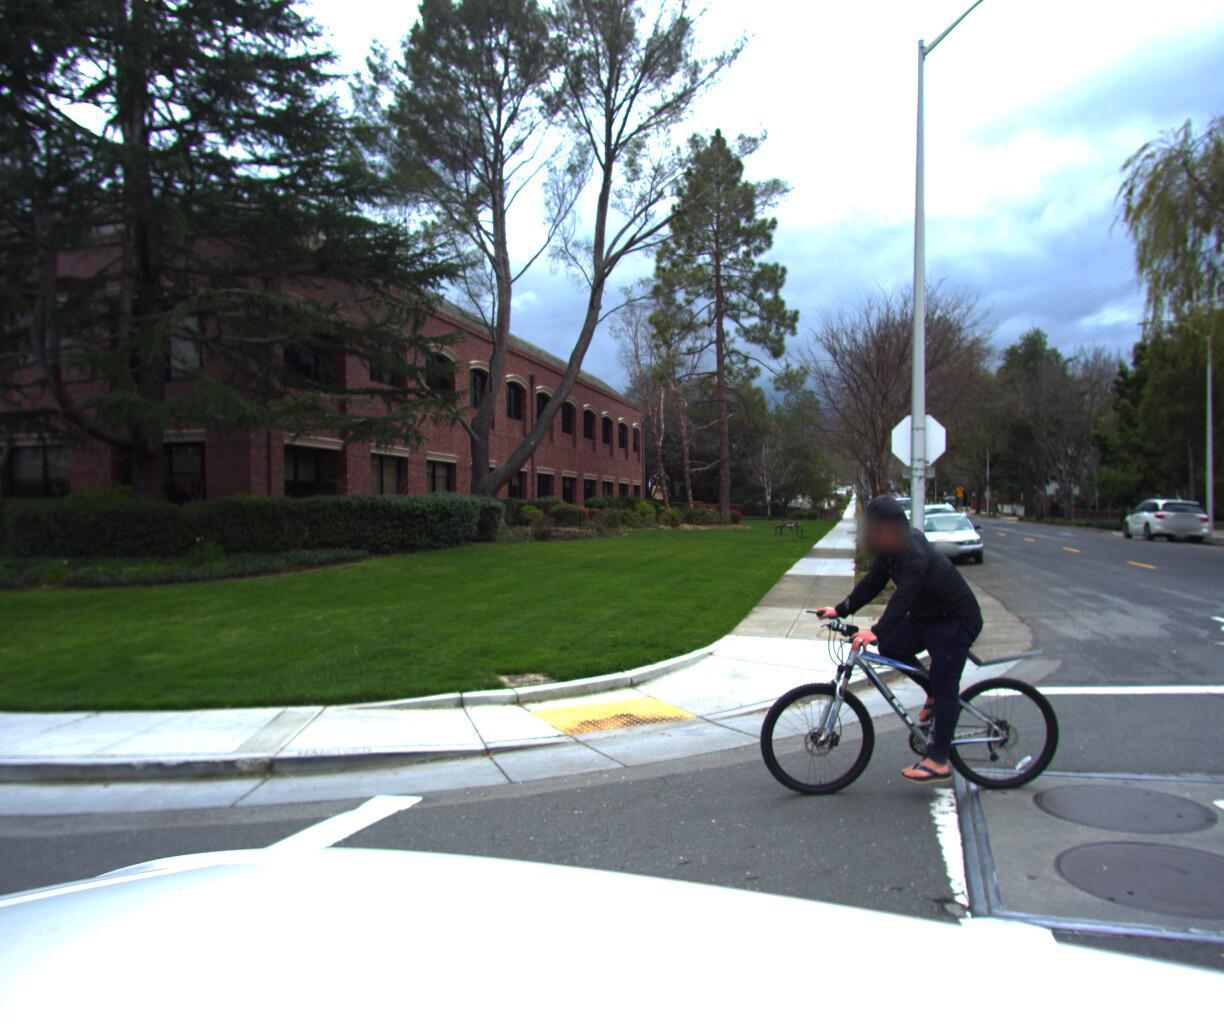bicycle: (724, 460, 1115, 818)
car: (898, 508, 985, 568), (1114, 493, 1208, 543), (896, 499, 969, 551), (878, 496, 917, 531)
